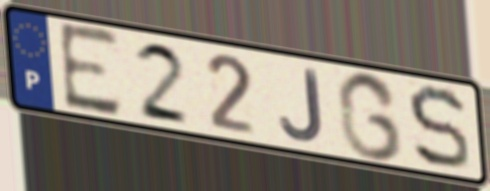2: (131, 40, 191, 128), (203, 52, 258, 138)
E: (54, 19, 125, 120)
G: (335, 69, 406, 164)
J: (277, 66, 326, 145)
S: (404, 83, 473, 173)
